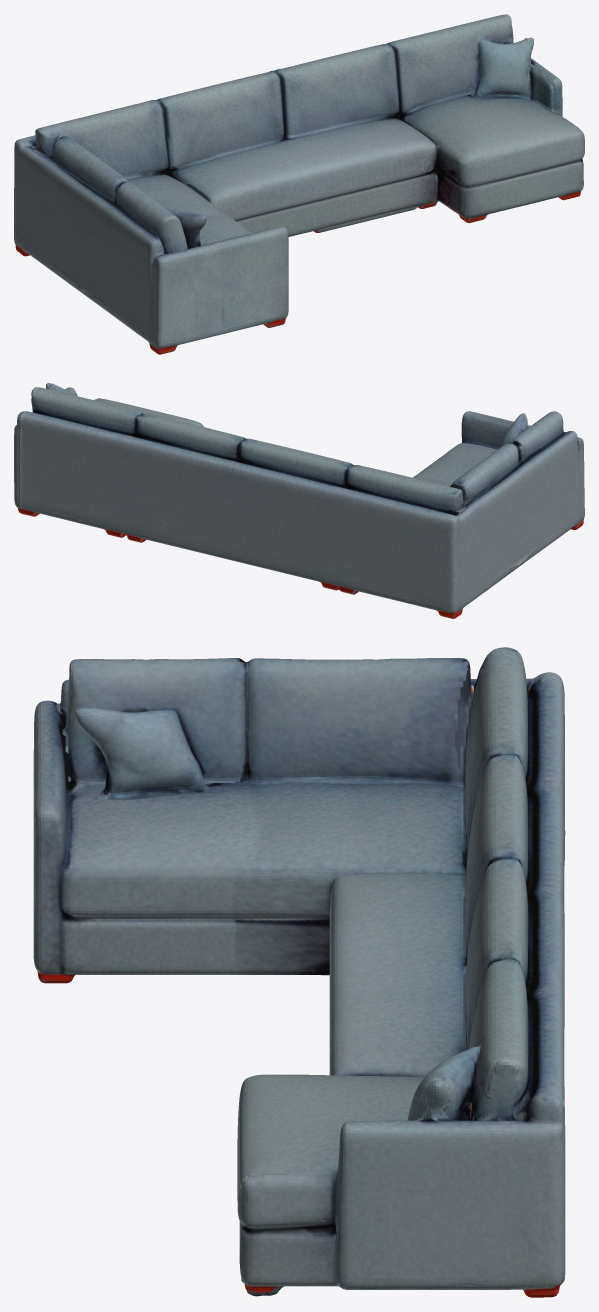
The model's file is product-farmhouse-scarlett-corner-sectional-with-chaise-07.glb.
3 renders of one model, top to bottom at view 1: azimuth 30°, elevation 25°; view 2: azimuth 150°, elevation 25°; view 3: azimuth 270°, elevation 25°, orthographic. The views are drawn at different scales.
Visible parts, largest first — view 1: geometry_0; view 2: geometry_0; view 3: geometry_0.
Part boxes in pixels (left/top/right/bottom): geometry_0: left=14, top=14, right=584, bottom=354; geometry_0: left=14, top=383, right=584, bottom=618; geometry_0: left=33, top=647, right=565, bottom=1297.
Size of the model in its own units: 3.48 by 0.8858 by 1.8.
Materials: 1 (1 with a texture image).
